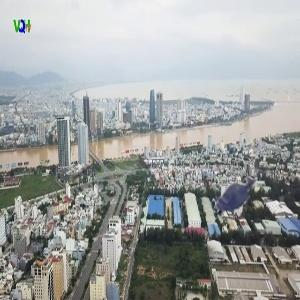drone: (194, 158, 275, 239)
